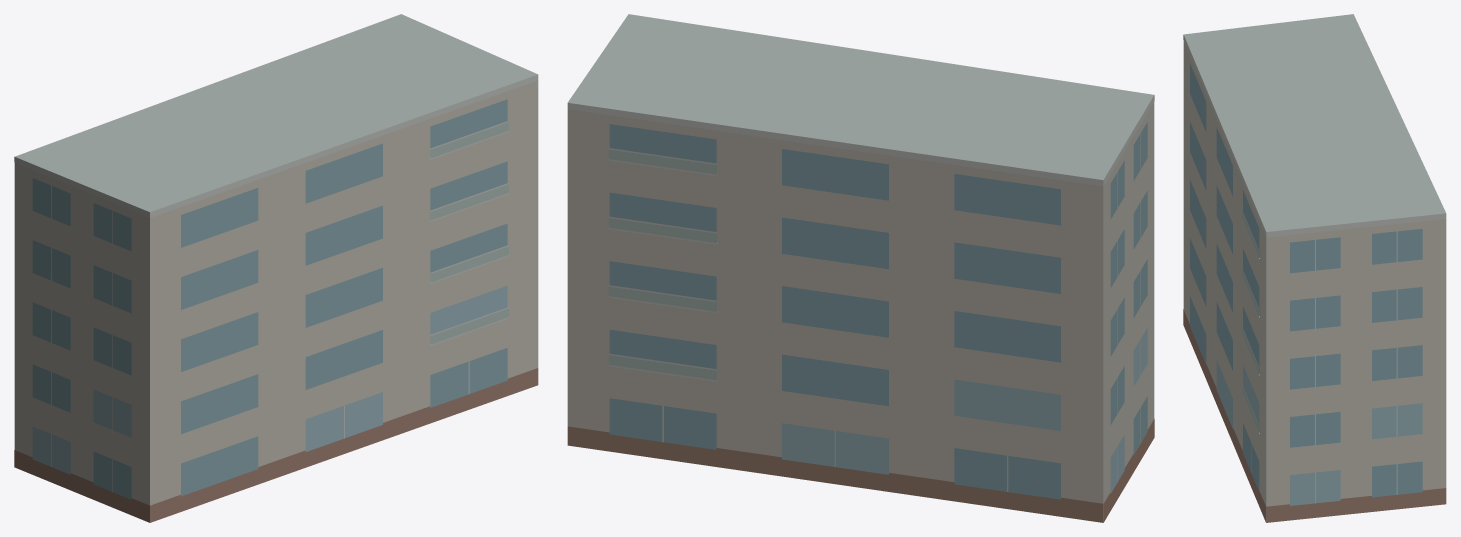
File: survey-upis-32916603.glb
The picture shows the model from 3 angles, left to right: view 1: azimuth 30°, elevation 25°; view 2: azimuth 150°, elevation 25°; view 3: azimuth 270°, elevation 25°; orthographic projection. The views are drawn at different scales.
Parts seen in each view (by area): view 1: survey-upis-32916603.tmp; view 2: survey-upis-32916603.tmp; view 3: survey-upis-32916603.tmp.
Part boxes in pixels (x1,y1,x2,y2): survey-upis-32916603.tmp: [14, 14, 538, 522]; survey-upis-32916603.tmp: [567, 14, 1154, 522]; survey-upis-32916603.tmp: [1183, 14, 1446, 522].
Size of the model in its own units: 21.07 by 13.1 by 10.74.
